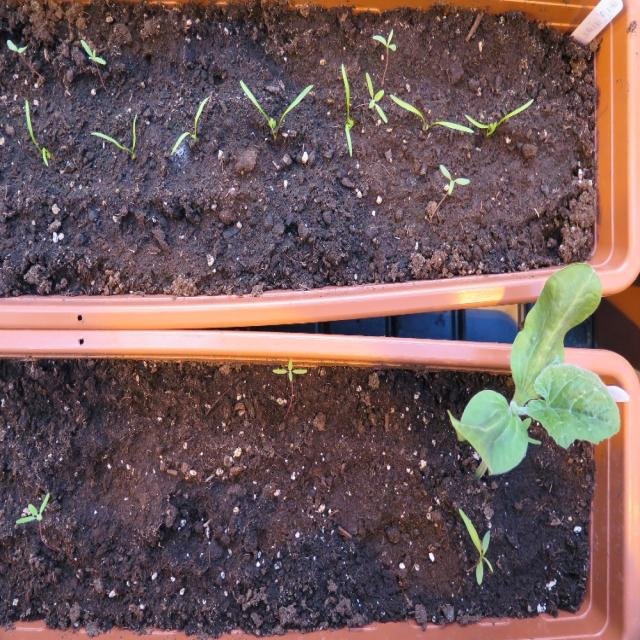crop: (238, 76, 316, 142), (170, 93, 209, 155), (89, 111, 137, 160), (24, 97, 52, 168), (340, 61, 354, 157)
weed: (457, 506, 494, 587), (13, 490, 50, 526), (364, 70, 388, 124), (438, 162, 470, 196), (270, 358, 308, 382), (80, 38, 106, 66), (371, 26, 396, 52), (5, 37, 28, 53)
